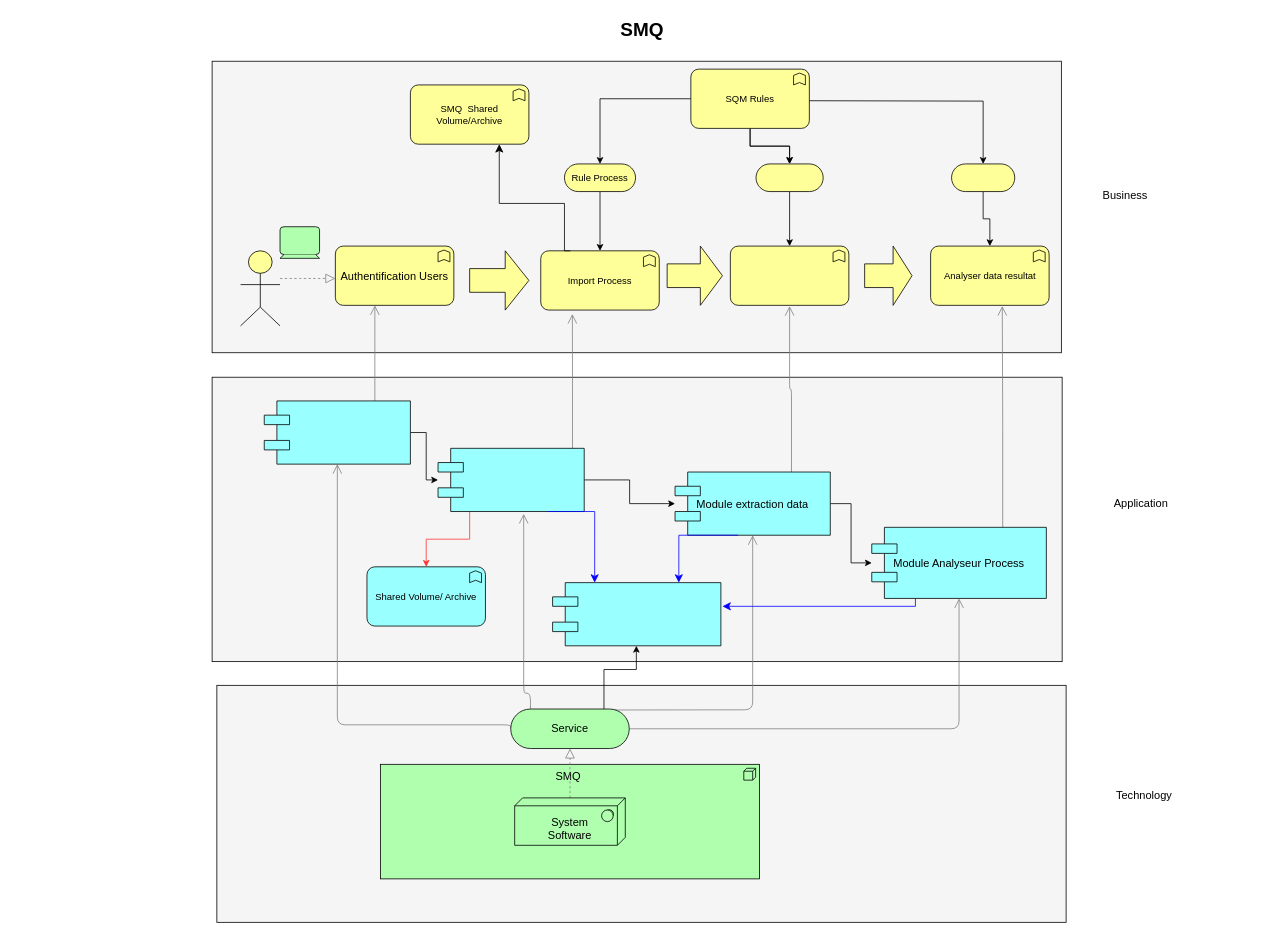
Some shapes in this 1283 by 936 pixel diagram are drawn without their labels. Each missing label, with the centre of its shape:
Extraire data: point (789, 275)
Module Import Process: point (510, 480)
Module Rules Referentials: point (636, 614)
Module Security: point (336, 432)
Rule Analyse: point (983, 177)
Rule Extraction: point (789, 177)
